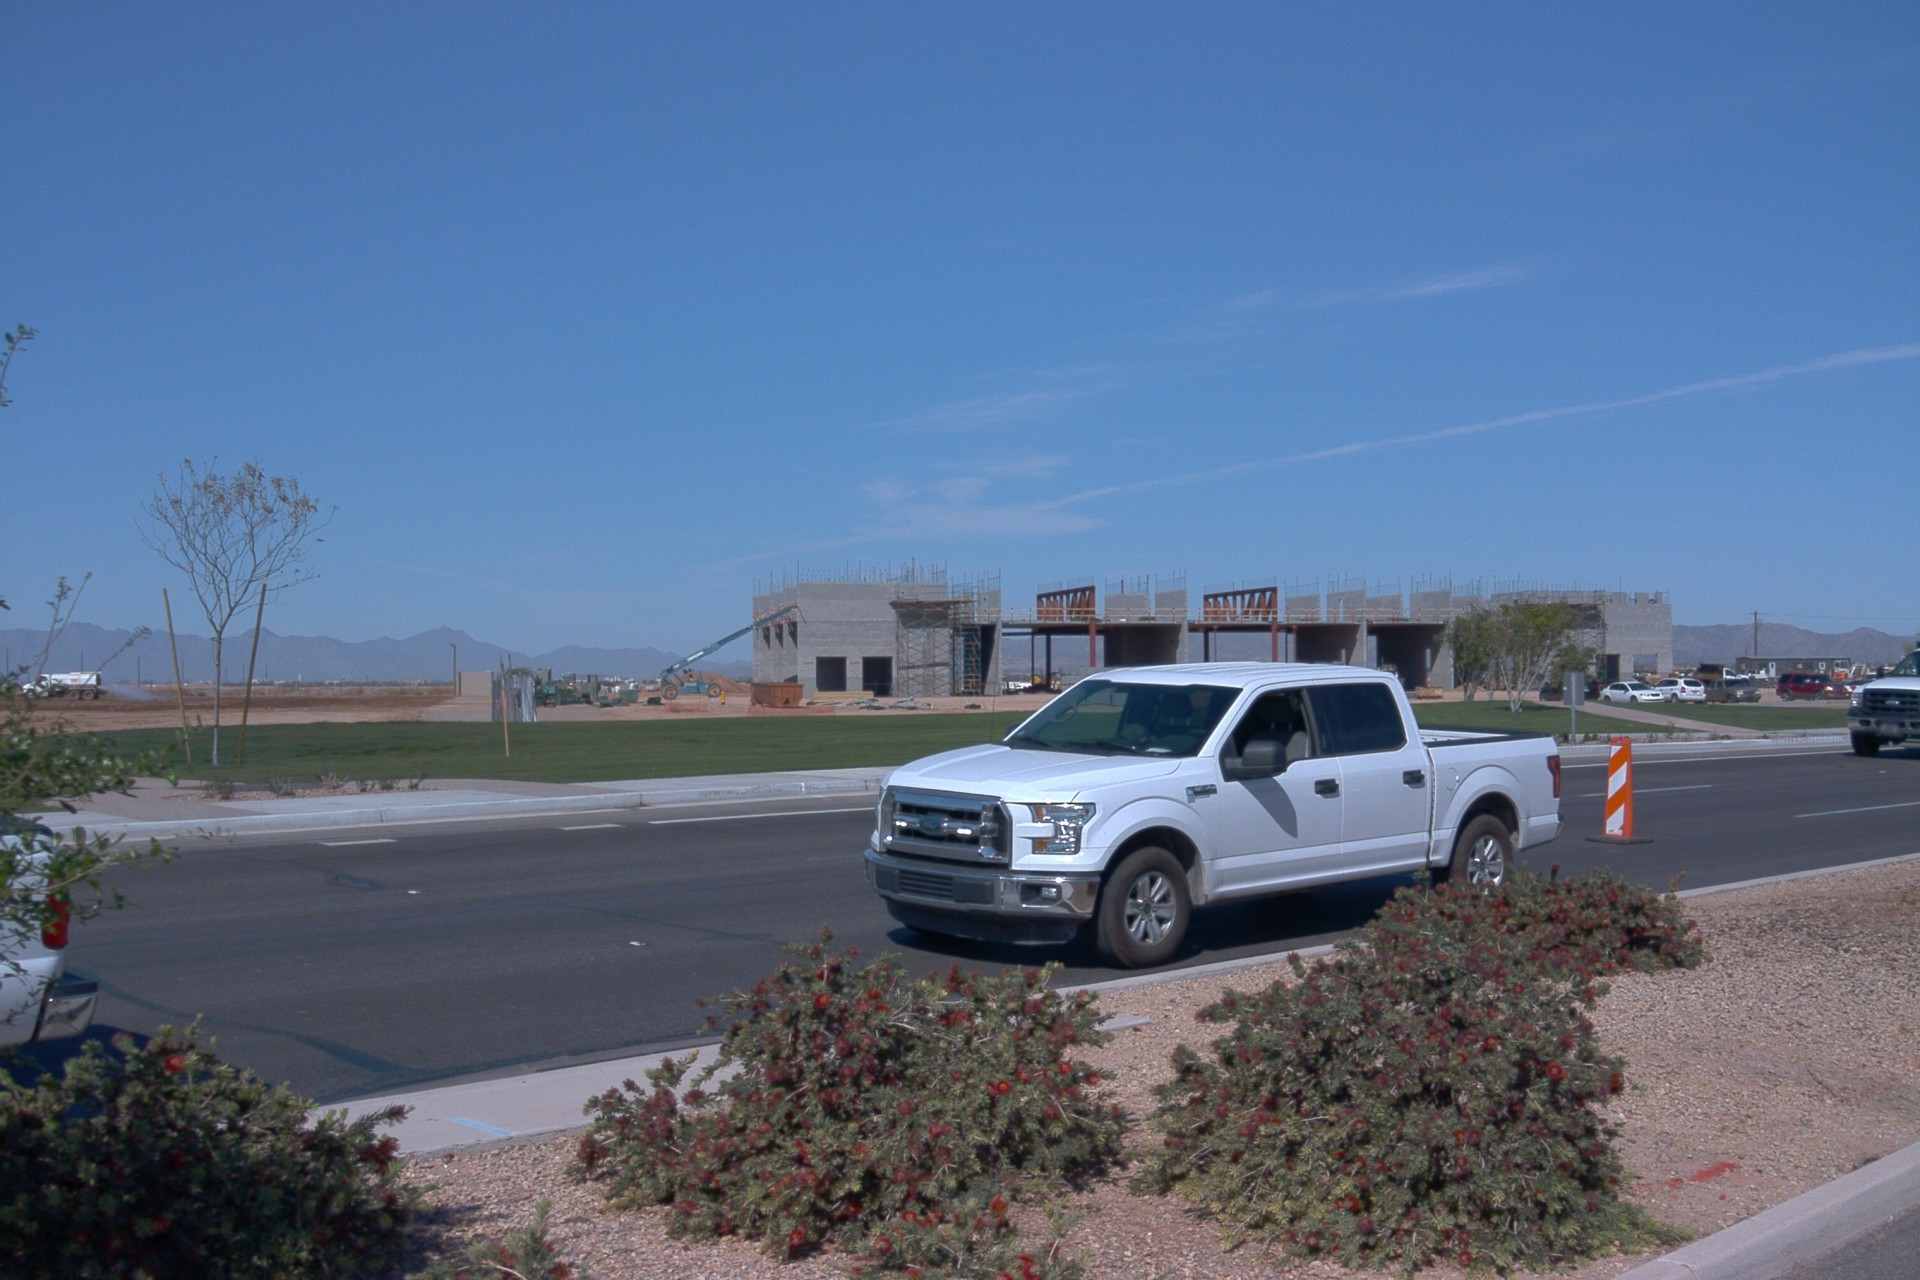TYPE_PEDESTRIAN: (565, 684, 573, 692)
TYPE_VEHICLE: (859, 658, 1568, 974), (0, 801, 107, 1053), (659, 602, 807, 703), (1838, 642, 1920, 758), (24, 671, 108, 713), (1774, 674, 1848, 708), (1538, 674, 1600, 708), (1706, 677, 1764, 710), (1653, 681, 1712, 711), (1598, 685, 1665, 707), (1686, 668, 1747, 687), (1027, 671, 1069, 693), (1880, 656, 1912, 677)
